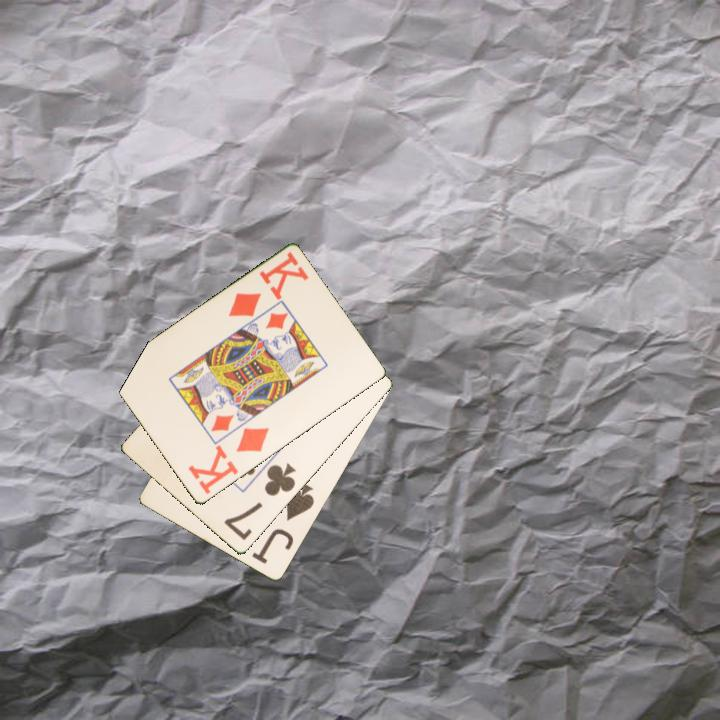7c: (220, 460, 299, 544)
Js: (248, 479, 317, 567)
Kd: (184, 424, 272, 497), (225, 248, 311, 320)
